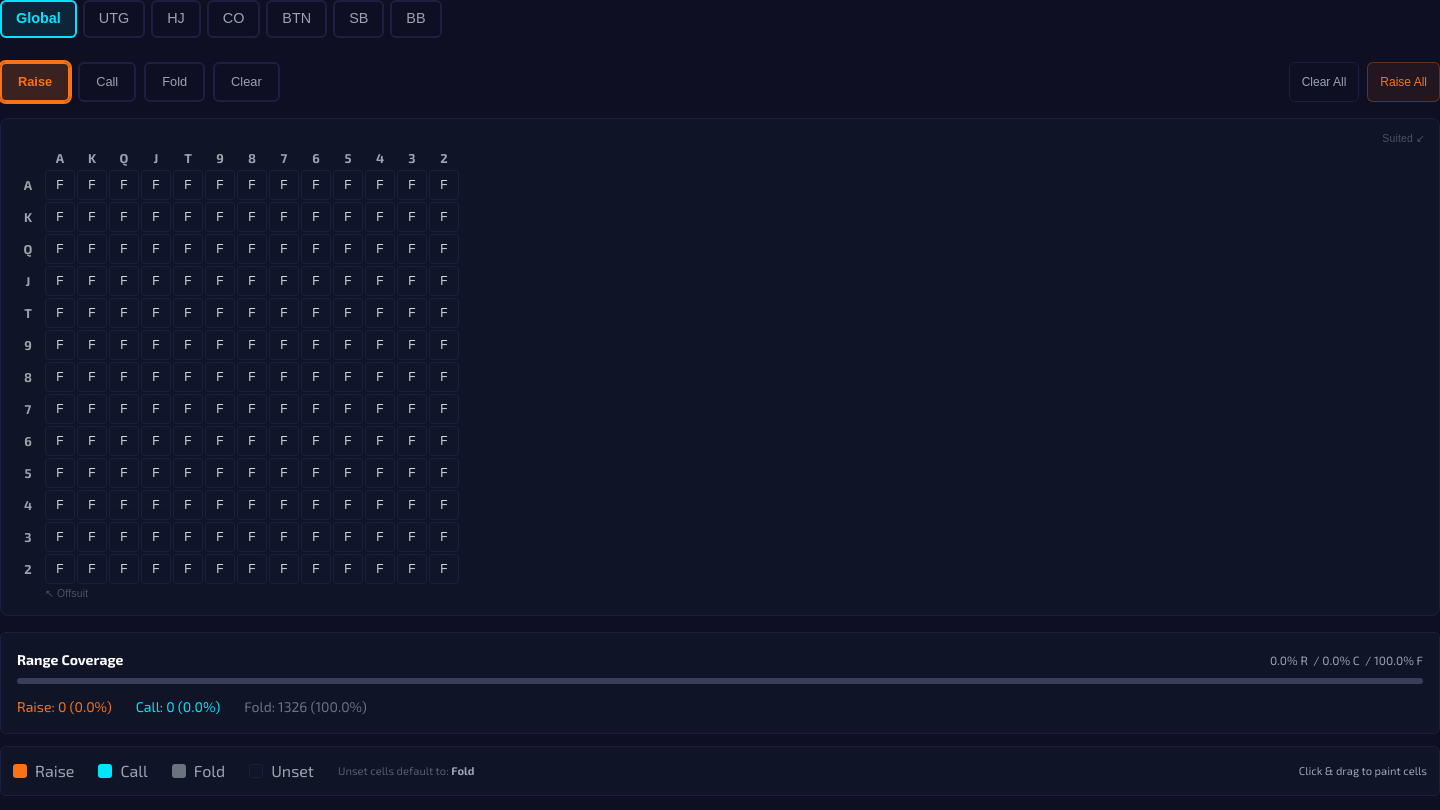
Test: Inheritance notice › mentions the position name in the notice
This screenshot has width=1440, height=810.
Click the button "CO" at (234, 19), box [207,0,260,38]
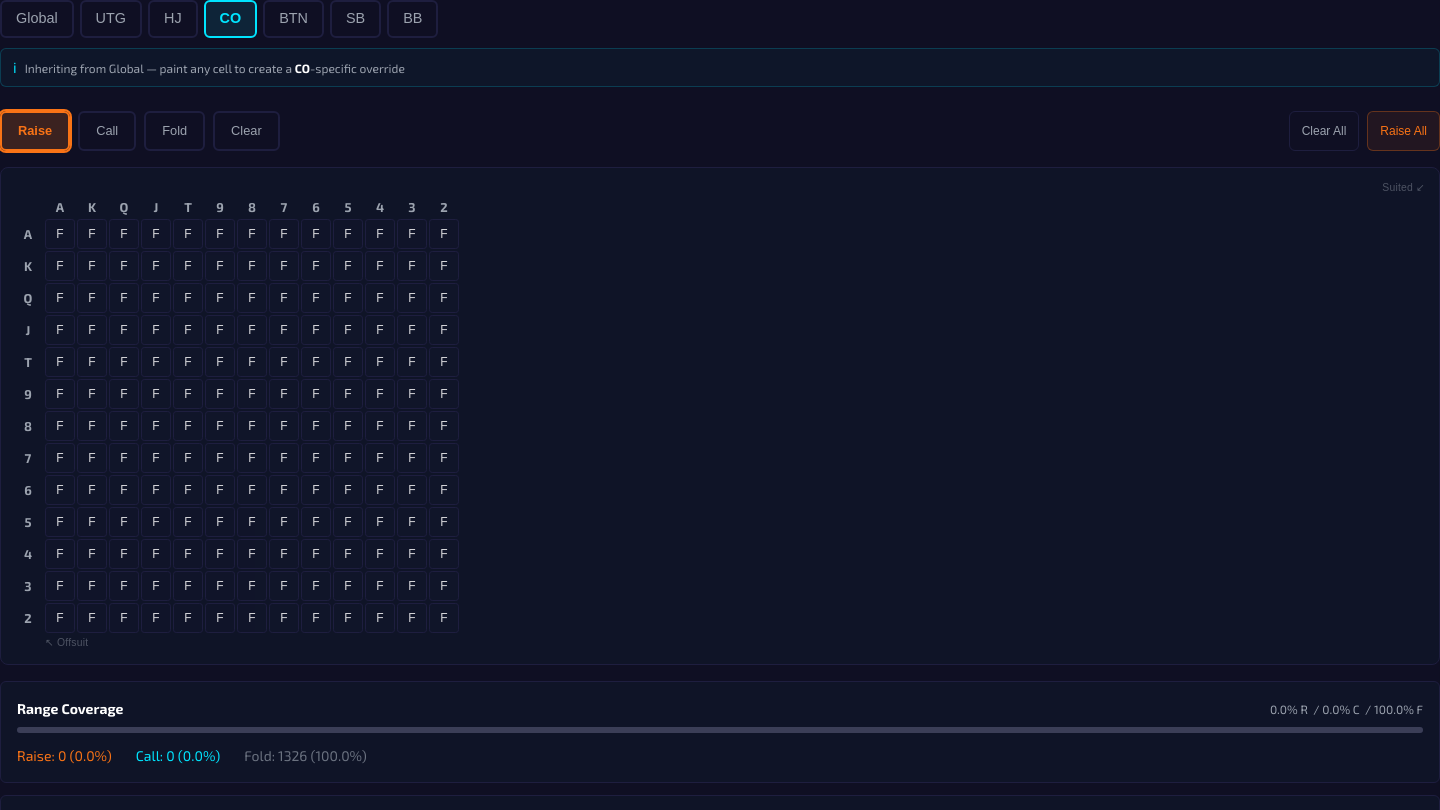
expect the text "Inheriting from Global" shows "CO": met, box [295,61,310,75]
